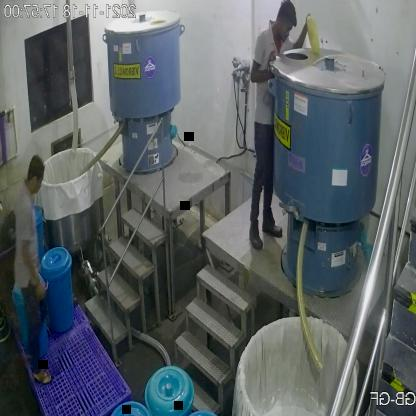no_shoes: (32, 369, 52, 387)
